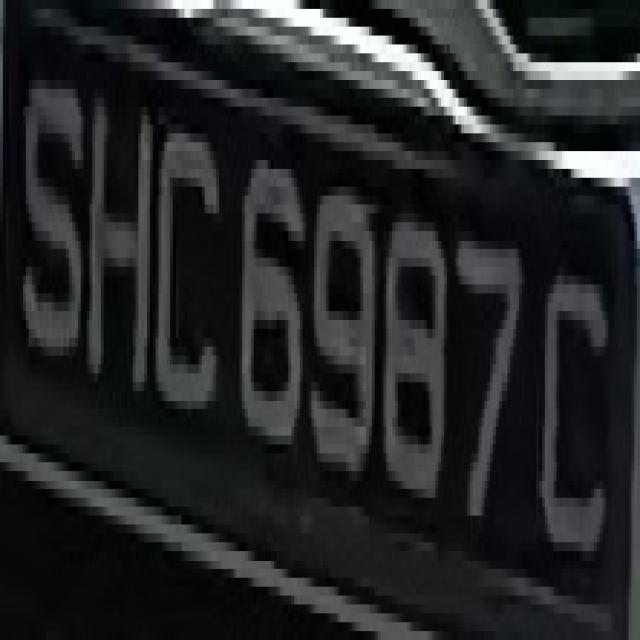6: (234, 116, 302, 462)
7: (458, 204, 525, 578)
8: (369, 195, 458, 516)
9: (302, 160, 374, 498)
C: (539, 240, 623, 604), (153, 89, 216, 453)
H: (78, 62, 153, 436)
S: (20, 36, 84, 364)
